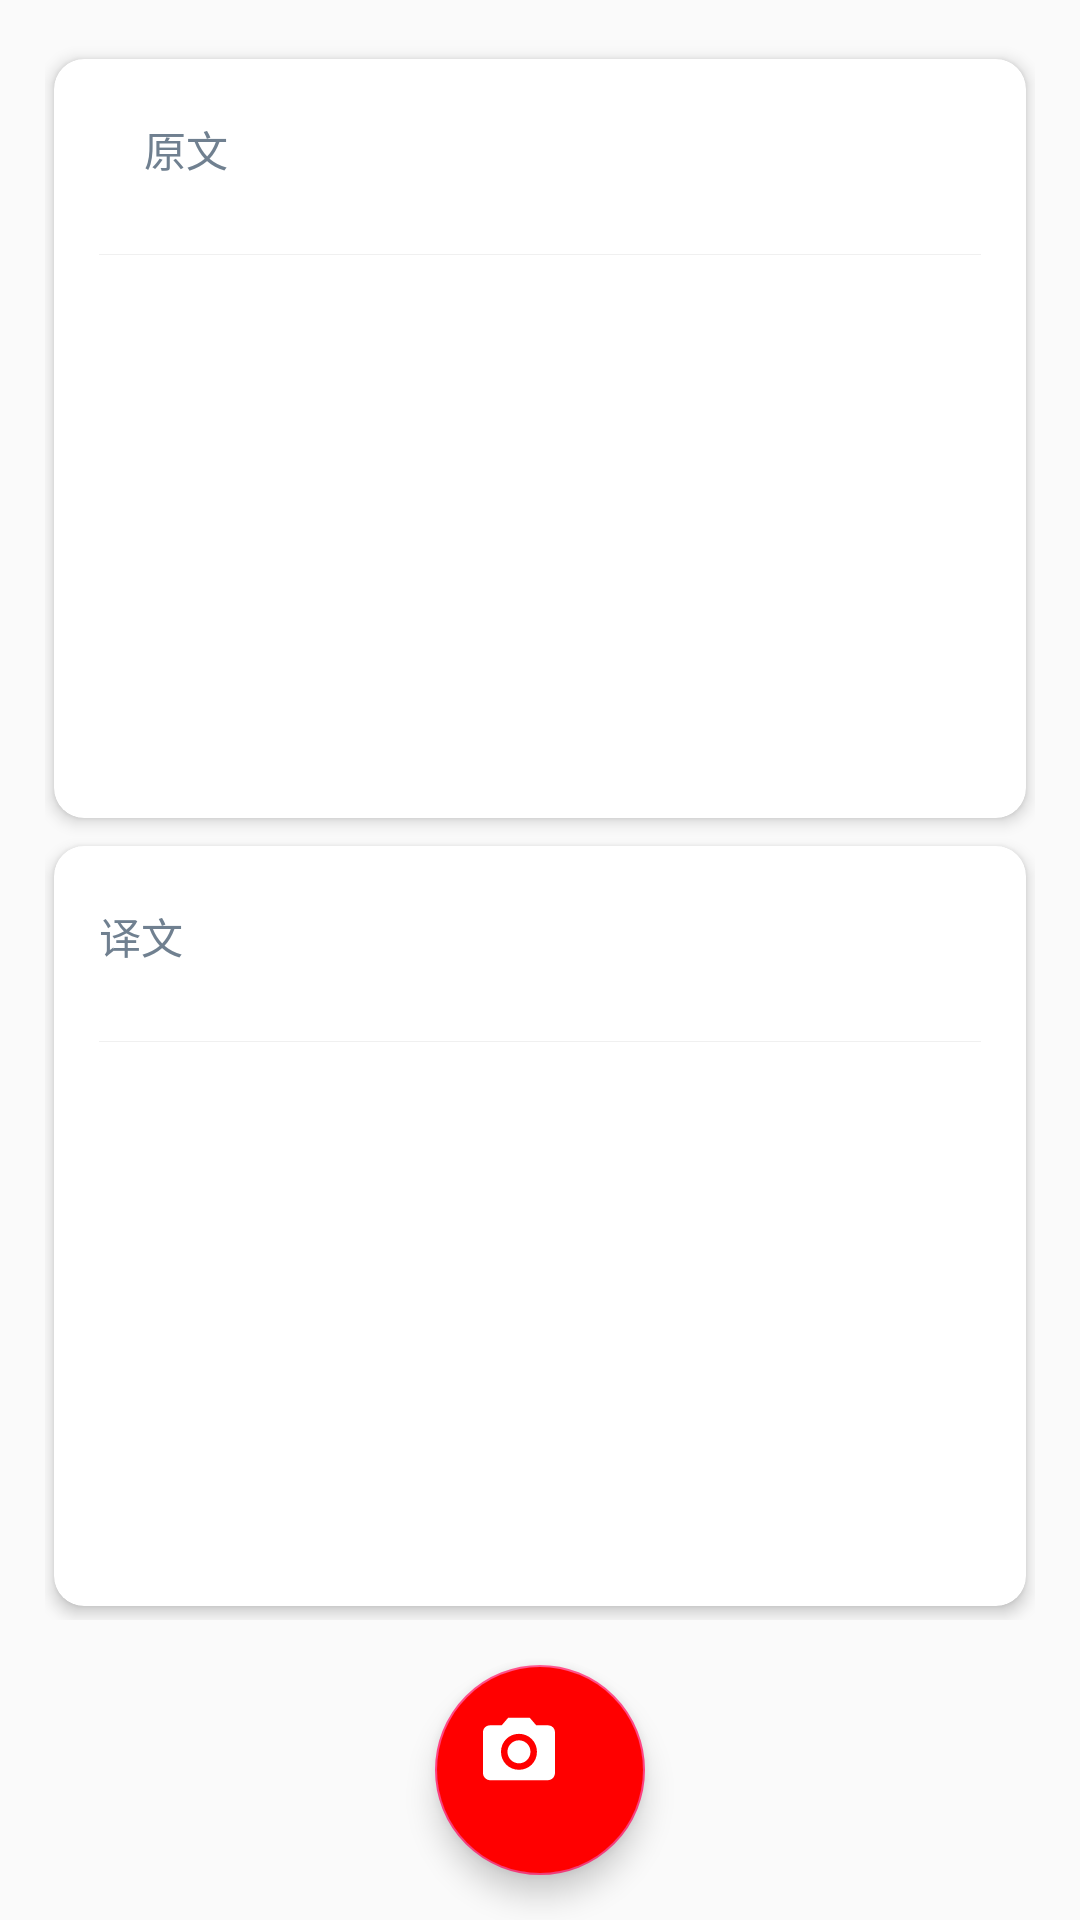

Named icons in this screenshot (1080 x 1920) and their bounding boxes, {"x1": x1, "y1": y1, "x2": x2, "y2": y2}:
camera: {"x1": 435, "y1": 1665, "x2": 645, "y2": 1875}
